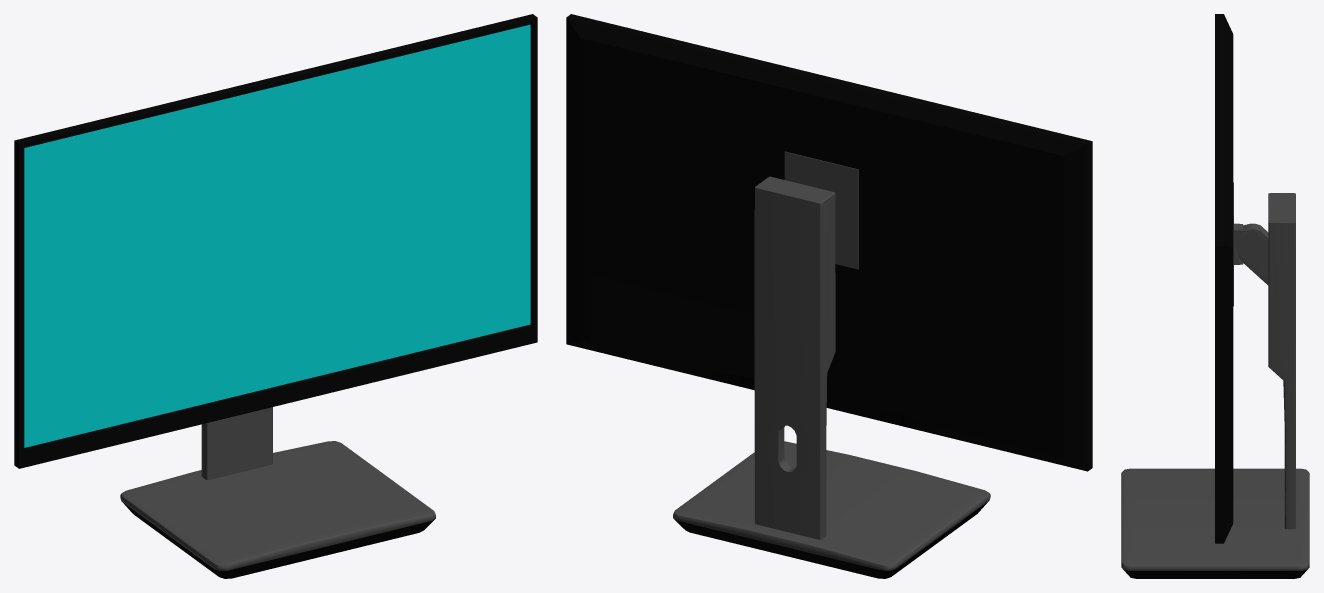
The model's file is Monitor.fbx.
3 views of the same model, side by side, from view 1: azimuth 30°, elevation 25°; view 2: azimuth 150°, elevation 25°; view 3: azimuth 270°, elevation 25° (orthographic). The views are drawn at different scales.
Parts seen in each view (by area): view 1: Monitor; view 2: Monitor; view 3: Monitor.
Boxes of the visible parts, bbox=[...] form: Monitor: bbox=[14, 14, 537, 578]; Monitor: bbox=[566, 14, 1092, 578]; Monitor: bbox=[1121, 14, 1309, 578].
Size of the model in its own units: 2.7 by 2.19 by 0.9254.
